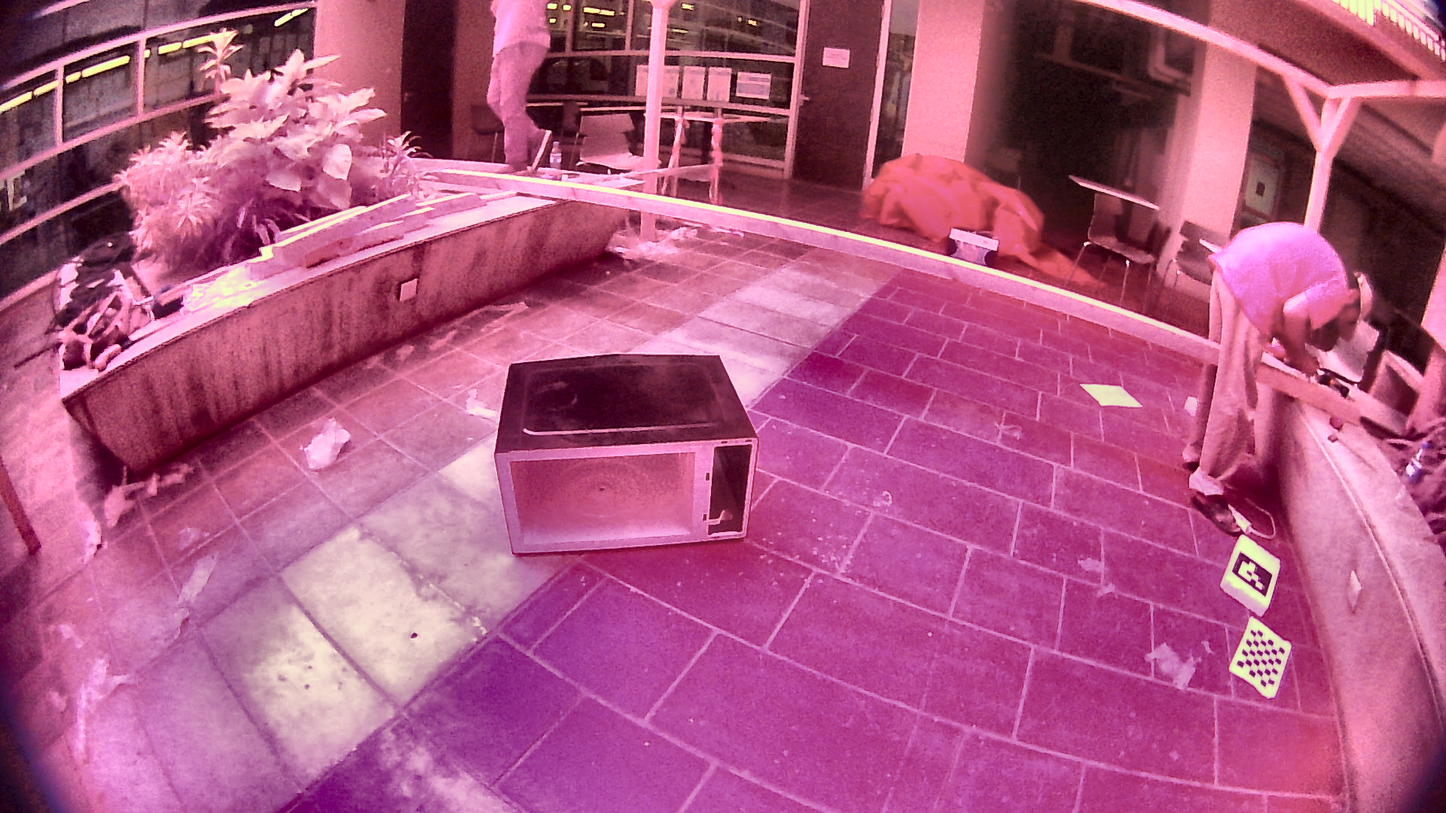MicroWave: (478, 336, 786, 580)
